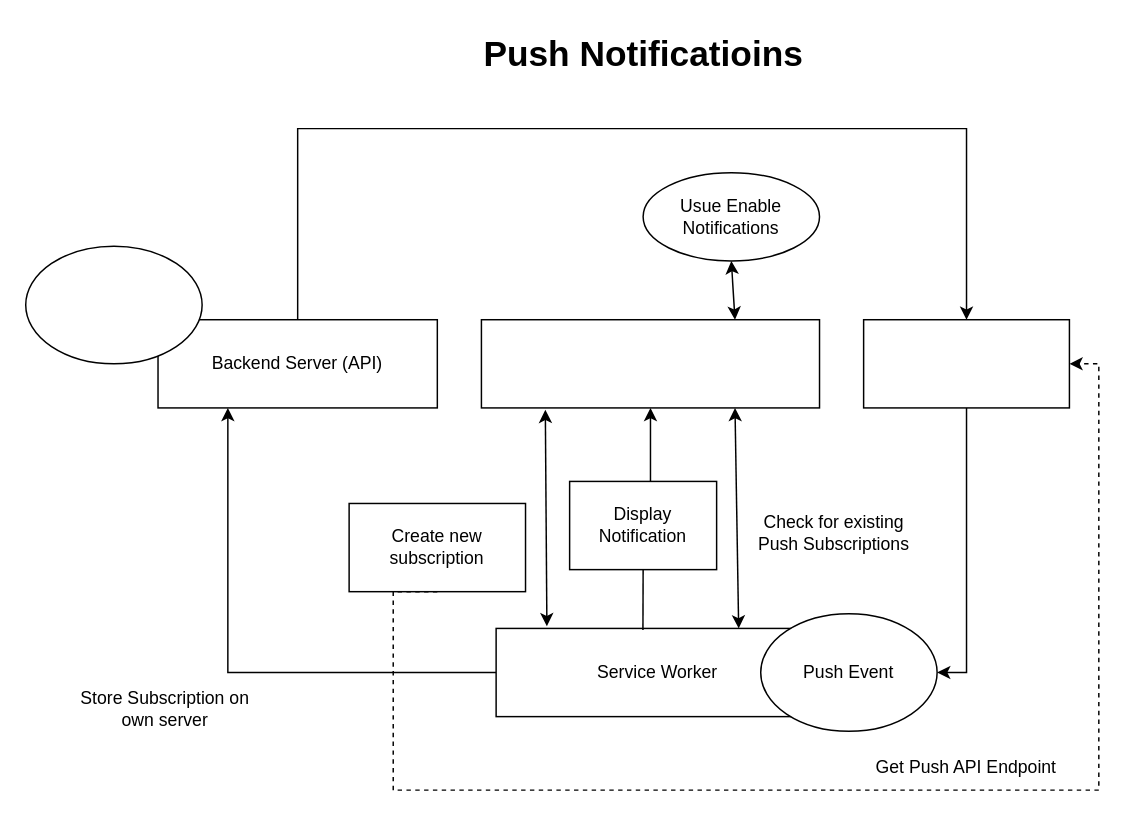
The diagram is 1136 pixels wide and 828 high, and some of its shapes have lost their labels. Here are the shapes that lost their labels. From the top down, the centre of each, then its label:
the point at 113,304: Send Push Notification
the point at 650,363: Web App
the point at 965,363: Browser Vendor Push Server
